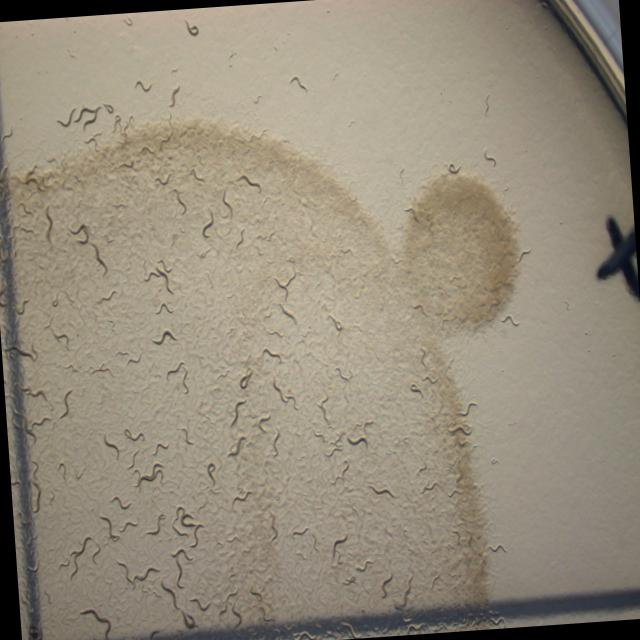filarid: (160, 577, 195, 629), (117, 560, 158, 587), (275, 271, 296, 323), (80, 607, 111, 640), (144, 259, 173, 293), (272, 377, 298, 410), (171, 547, 190, 588), (99, 515, 120, 540), (230, 397, 247, 427), (236, 173, 262, 191), (317, 395, 331, 427), (151, 329, 176, 345), (201, 208, 214, 238), (103, 434, 119, 457), (172, 188, 187, 212), (239, 365, 254, 389), (221, 188, 232, 219), (279, 303, 296, 323), (262, 346, 282, 363), (228, 436, 244, 455), (94, 244, 106, 269), (257, 411, 270, 433), (271, 427, 279, 456), (347, 436, 368, 447), (155, 301, 173, 313), (516, 249, 531, 263), (330, 434, 341, 453), (189, 169, 205, 182), (484, 148, 496, 165), (500, 314, 518, 325), (330, 315, 342, 330), (374, 488, 392, 496), (92, 545, 100, 563), (72, 552, 79, 571), (157, 514, 165, 530), (155, 175, 169, 184), (236, 229, 243, 245), (314, 432, 326, 440), (339, 370, 349, 379), (124, 521, 136, 527), (264, 232, 273, 239), (79, 541, 84, 552), (200, 604, 207, 610), (287, 257, 295, 261), (279, 283, 285, 288), (174, 513, 178, 520), (177, 531, 186, 534), (366, 420, 372, 424), (504, 185, 508, 190)
